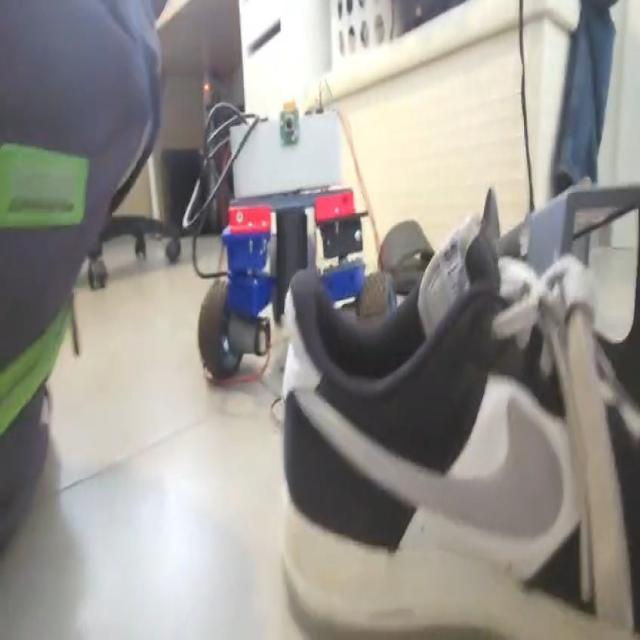Robot: (197, 91, 397, 377)
